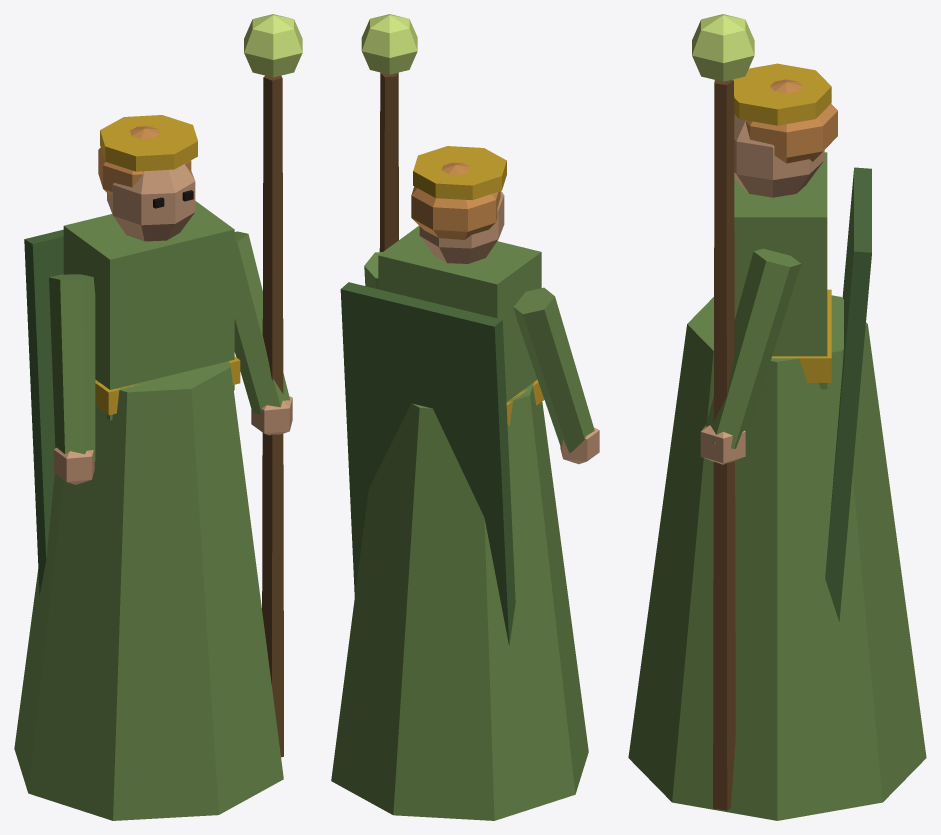
File: druidin.glb
3 views of the same model, side by side, from view 1: azimuth 30°, elevation 25°; view 2: azimuth 150°, elevation 25°; view 3: azimuth 270°, elevation 25° (orthographic). The views are drawn at different scales.
Bounding box in the file's own units: 0.68 × 1.94 × 0.66.
1 material, 1 textured.
